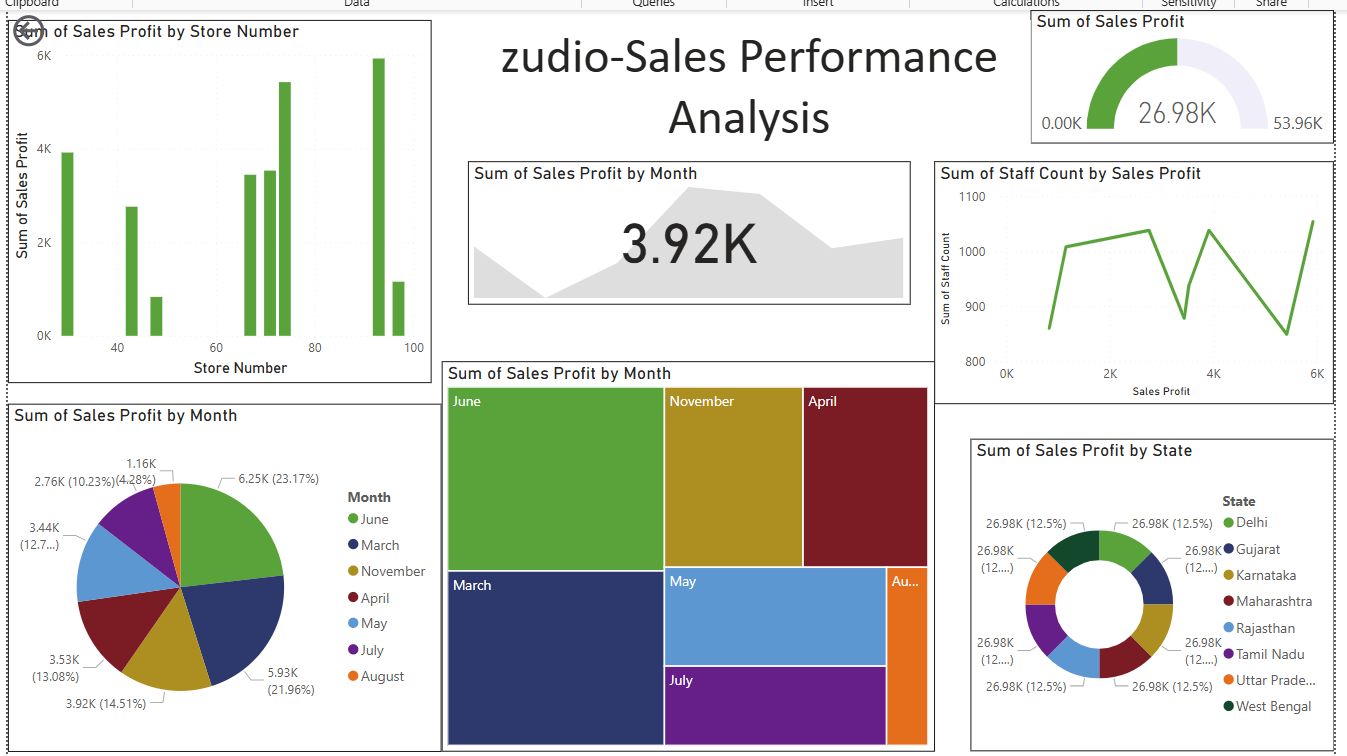

Layout of this report page (visuals, bound fields, positions):
{"tool":"powerbi","page":{"name":"Page 1","canvas":[1280,720],"ordinal":0},"visuals":[{"type":"clusteredColumnChart","fields":{"Category":["sales details.Store Number"],"Y":["Sum(sales details.Sales Profit)"]},"box":[0,10,408.6,350],"z":0},{"type":"treemap","fields":{"Group":["store details.City","sales details.Month"],"Values":["Sum(product details.Sales Profit)"]},"box":[418.6,338.6,475.7,377.1],"z":1000},{"type":"pieChart","fields":{"Y":["Sum(sales details.Sales Profit)"],"Category":["sales details.Month"]},"box":[0,380,418.6,335.7],"z":2000},{"type":"donutChart","fields":{"Y":["Sum(product details.Sales Profit)"],"Category":["store details.State"]},"box":[928.6,414.3,351.4,301.4],"z":3000},{"type":"gauge","fields":{"Y":["Sum(sales details.Sales Profit)"]},"box":[987.1,0,292.9,128.6],"z":4000},{"type":"kpi","fields":{"TrendLine":["sales details.Month"],"Indicator":["Sum(sales details.Sales Profit)"]},"box":[444.3,145.7,427.1,138.6],"z":5000},{"type":"actionButton","box":[0,0,100,40],"z":6000},{"type":"textbox","box":[444.3,10,542.9,135.7],"z":7000},{"type":"lineChart","fields":{"Category":["product details.Sales Profit"],"Y":["Sum(store details.Staff Count)"]},"box":[894.3,145.7,385.7,234.3],"z":8000}]}

Visuals, with their boxes in screenshot pixels (x1, y1, x2, y2):
clusteredColumnChart - sales details.Store Number x Sum(sales details.Sales Profit): (4, 17, 428, 381)
treemap - store details.City x sales details.Month: (438, 358, 932, 750)
pieChart - Sum(sales details.Sales Profit) x sales details.Month: (4, 401, 438, 750)
donutChart - Sum(product details.Sales Profit) x store details.State: (967, 437, 1332, 750)
gauge - Sum(sales details.Sales Profit): (1028, 7, 1332, 140)
kpi - sales details.Month x Sum(sales details.Sales Profit): (465, 158, 908, 302)
actionButton: (4, 7, 107, 49)
textbox: (465, 17, 1028, 158)
lineChart - product details.Sales Profit x Sum(store details.Staff Count): (932, 158, 1332, 401)
